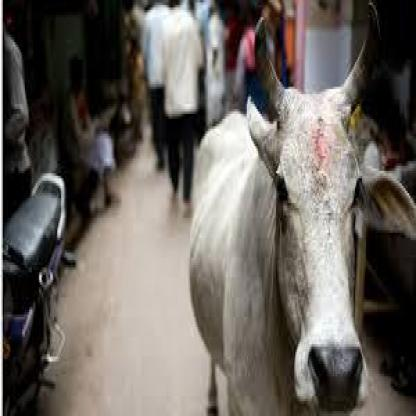cow: (189, 86, 415, 416)
